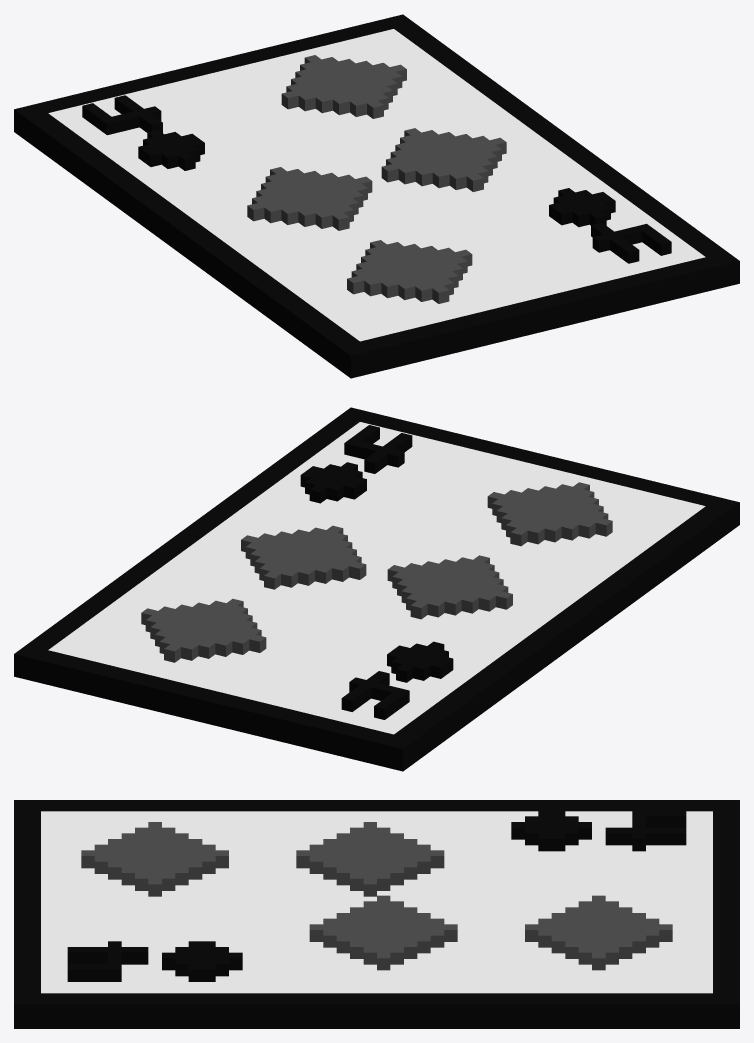
The model's file is Dia4.obj.
3 views of the same model, one above another, from view 1: azimuth 30°, elevation 25°; view 2: azimuth 150°, elevation 25°; view 3: azimuth 270°, elevation 25° (orthographic). The views are drawn at different scales.
Bounding box in the file's own units: 36 × 3 × 54.
1 material, 1 textured.
